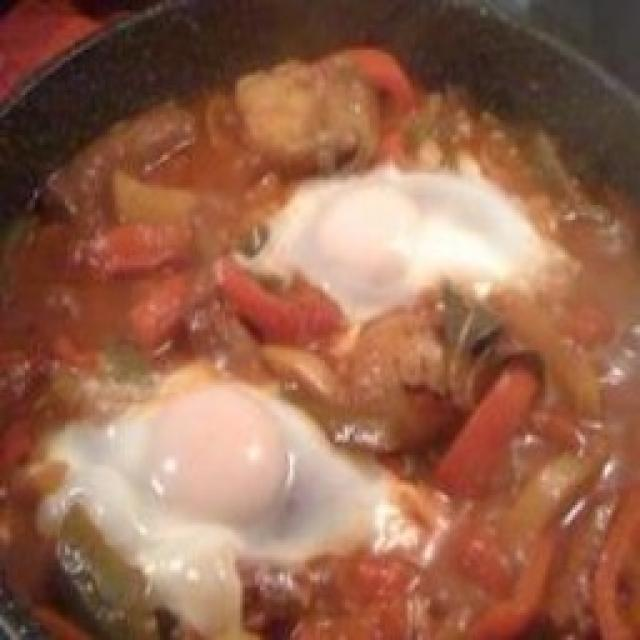Chakchouka: (0, 49, 640, 640)
